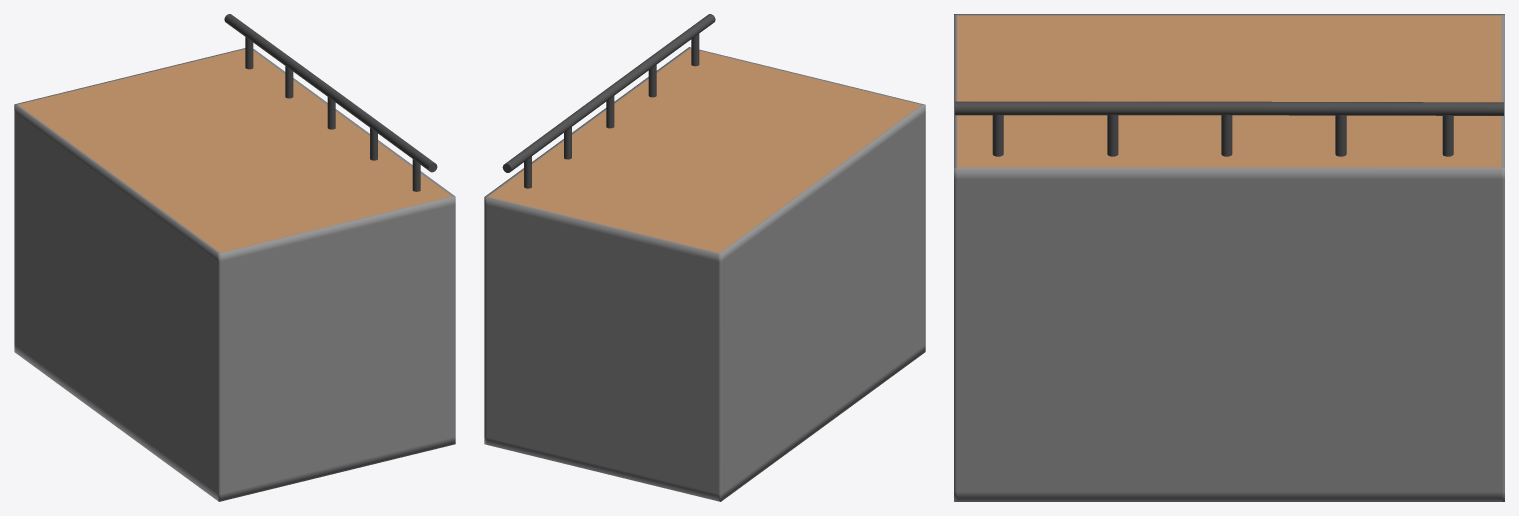
Rendered from big_flat.glb.
3 renders of one model, left to right at view 1: azimuth 30°, elevation 25°; view 2: azimuth 150°, elevation 25°; view 3: azimuth 270°, elevation 25°, orthographic. The views are drawn at different scales.
Visible parts, largest first — view 1: Cube.040; view 2: Cube.040; view 3: Cube.040.
Boxes of the visible parts, x1,y1,x2,y2 form: Cube.040: (14,14,455,501); Cube.040: (484,14,925,501); Cube.040: (954,14,1504,501).
Size of the model in its own units: 10 by 11.57 by 15.
